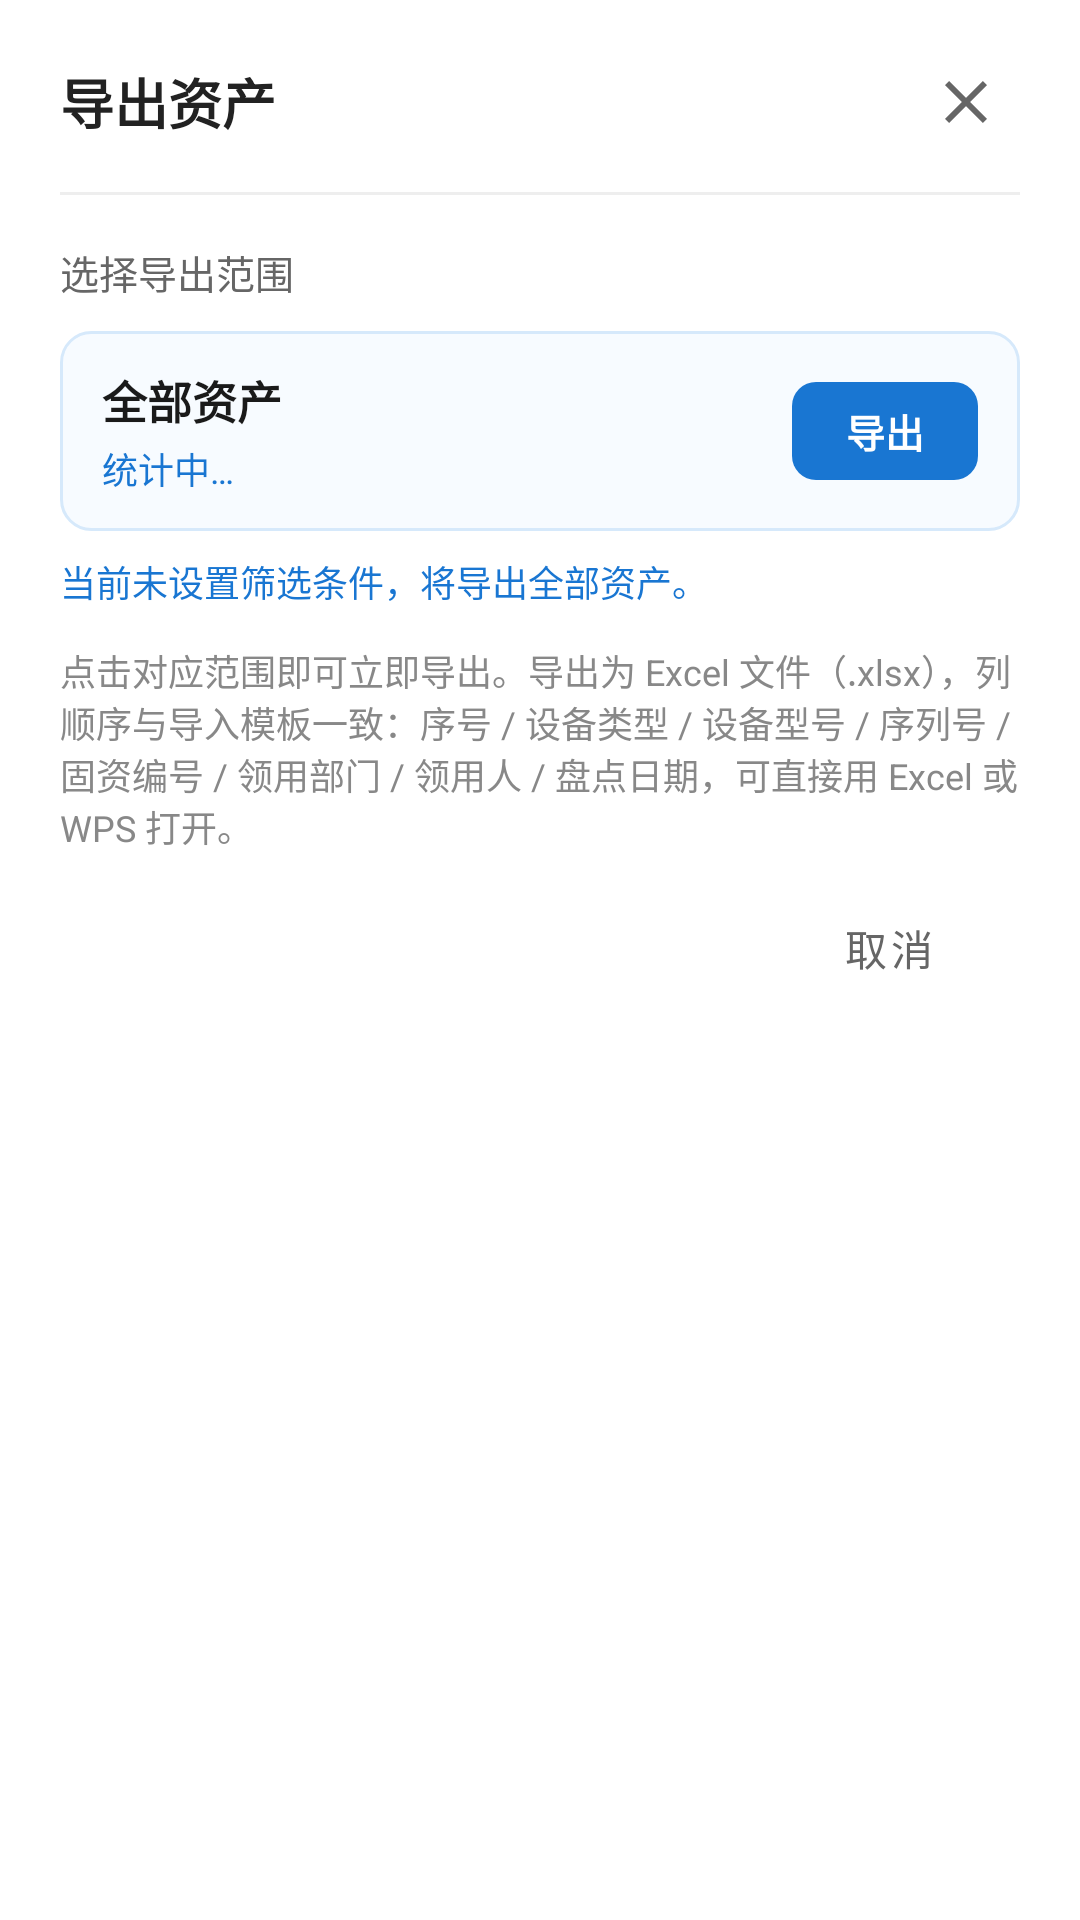

Icons on this 1080w x 1920h Android screen, each with its box as (x1, y1, x2, y2):
关闭: (945, 81, 987, 123)
